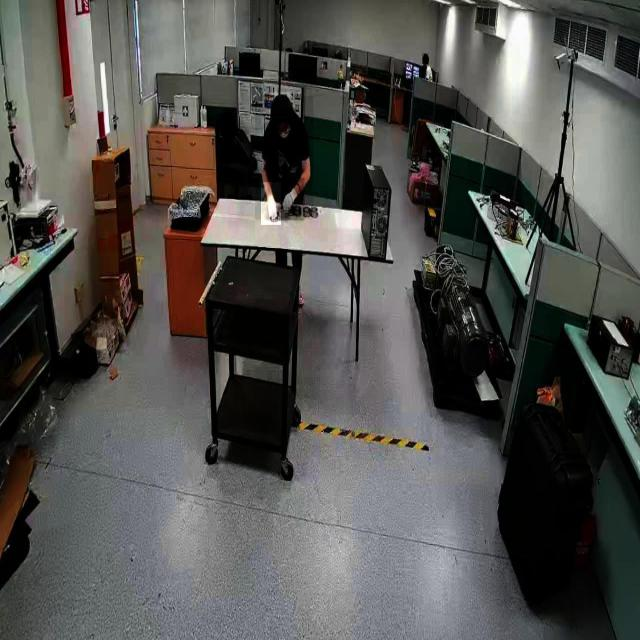face_mask: (273, 108, 295, 146)
hand_glove: (279, 178, 305, 221), (261, 182, 281, 226)
head_nohelmet: (269, 92, 292, 120), (422, 52, 428, 59)
person: (255, 96, 314, 220)
